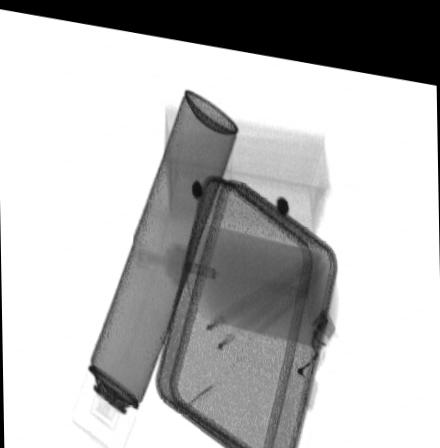Lighter: (281, 292, 336, 370)
Sprayer: (70, 80, 240, 448)
